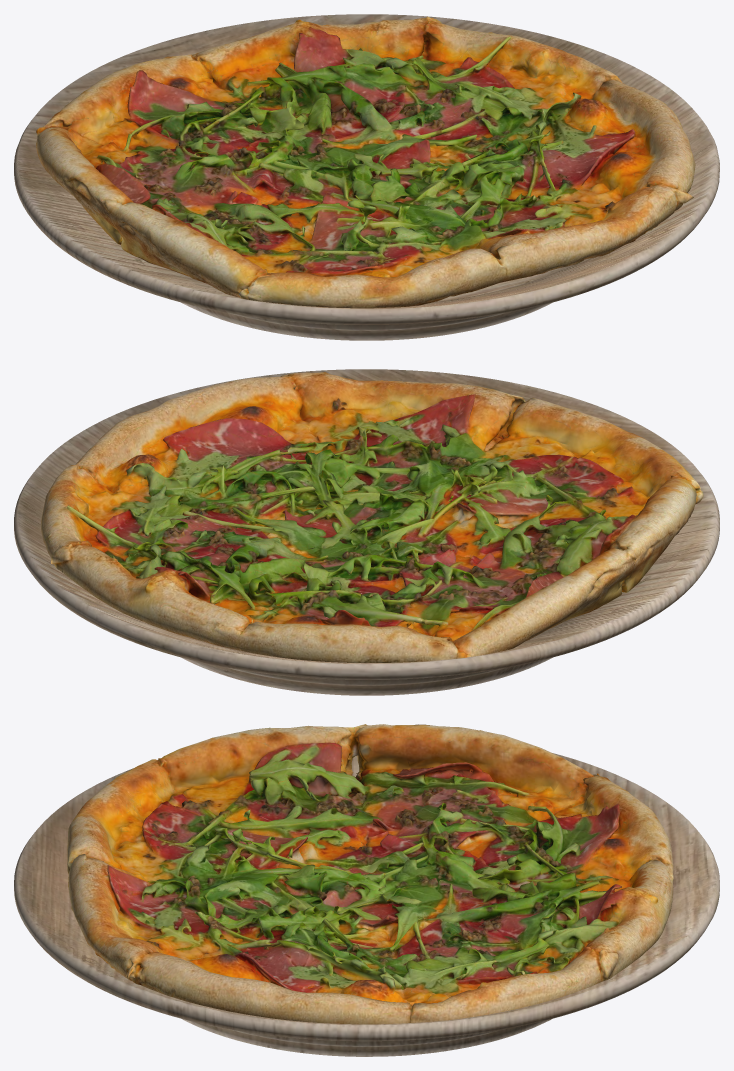
Rendered from wood-fired-pizza.glb.
3 views of the same model, one above another, from view 1: azimuth 30°, elevation 25°; view 2: azimuth 150°, elevation 25°; view 3: azimuth 270°, elevation 25° (orthographic).
Parts seen in each view (by area): view 1: pizza, Tarelka001; view 2: pizza, Tarelka001; view 3: pizza, Tarelka001.
Boxes of the visible parts, left/top/right/bottom form: pizza: left=36, top=16, right=695, bottom=308; Tarelka001: left=14, top=14, right=719, bottom=340; pizza: left=41, top=372, right=703, bottom=662; Tarelka001: left=14, top=369, right=719, bottom=695; pizza: left=67, top=724, right=673, bottom=1024; Tarelka001: left=14, top=753, right=719, bottom=1056.
Bounding box in the file's own units: 0.32 × 0.0546 × 0.32.
2 materials, 2 textured.
